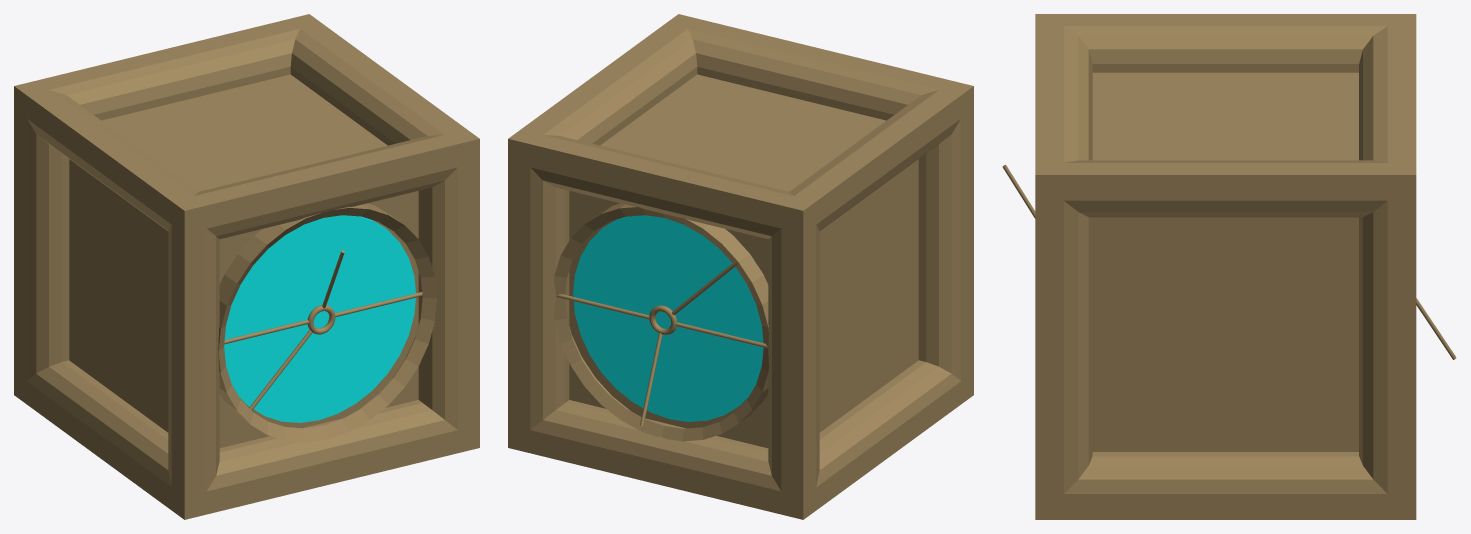
Rendered from Klock.fbx.
The picture shows the model from 3 angles, left to right: view 1: azimuth 30°, elevation 25°; view 2: azimuth 150°, elevation 25°; view 3: azimuth 270°, elevation 25°; orthographic projection. The views are drawn at different scales.
Visible parts, largest first — view 1: Cube, Cylinder, Cylinder.002, Cylinder.003; view 2: Cube, Cylinder, Cylinder.002, Cylinder.003; view 3: Cube, Cylinder.003.
Boxes of the visible parts, box(x1,y1,x2,y2) form: Cube: box(14, 14, 479, 519); Cylinder: box(224, 215, 415, 422); Cylinder.002: box(218, 203, 436, 442); Cylinder.003: box(224, 250, 422, 410); Cube: box(508, 14, 973, 519); Cylinder: box(573, 215, 763, 421); Cylinder.002: box(554, 203, 768, 441); Cylinder.003: box(557, 262, 767, 426); Cube: box(1035, 14, 1416, 519); Cylinder.003: box(1002, 165, 1456, 359).
Bounding box in the file's own units: 2 × 2 × 2.38.
